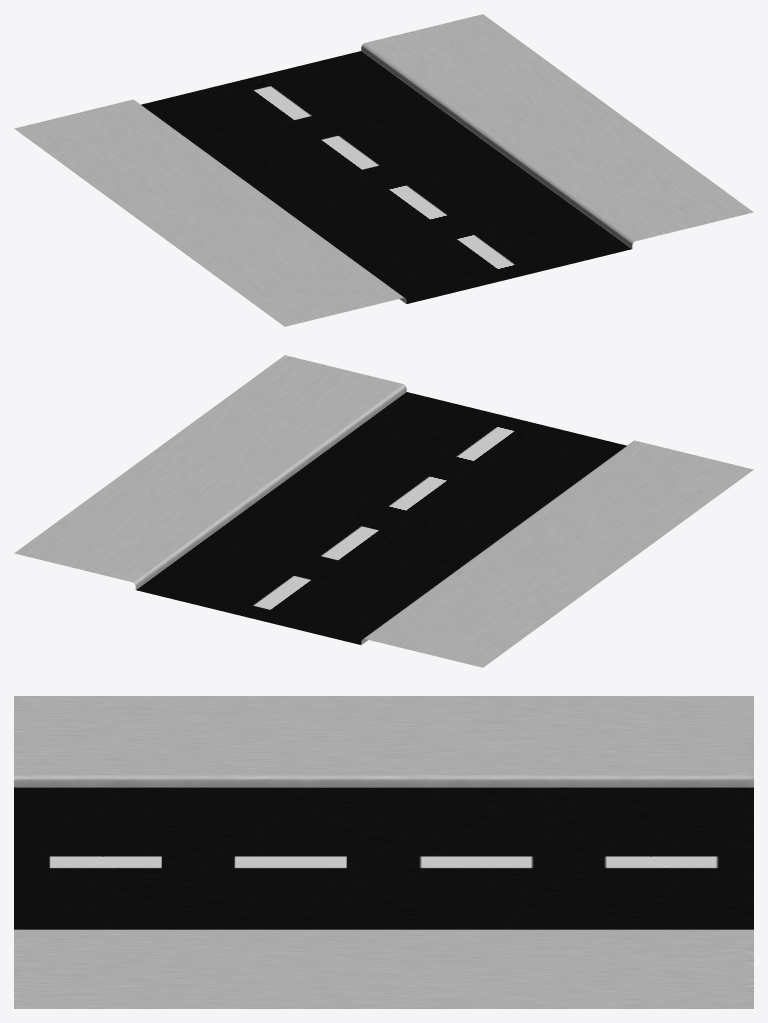
Rendered from Road_Straight.fbx.
3 renders of one model, top to bottom at view 1: azimuth 30°, elevation 25°; view 2: azimuth 150°, elevation 25°; view 3: azimuth 270°, elevation 25°, orthographic. The views are drawn at different scales.
Parts seen in each view (by area): view 1: RoadStraight; view 2: RoadStraight; view 3: RoadStraight.
Part boxes in pixels (x1,y1,x2,y2): RoadStraight: (14,14,753,326); RoadStraight: (14,355,753,667); RoadStraight: (14,696,753,1008).
Bounding box in the file's own units: 69.5 × 1 × 69.5.
Materials: 1 (1 with a texture image).
